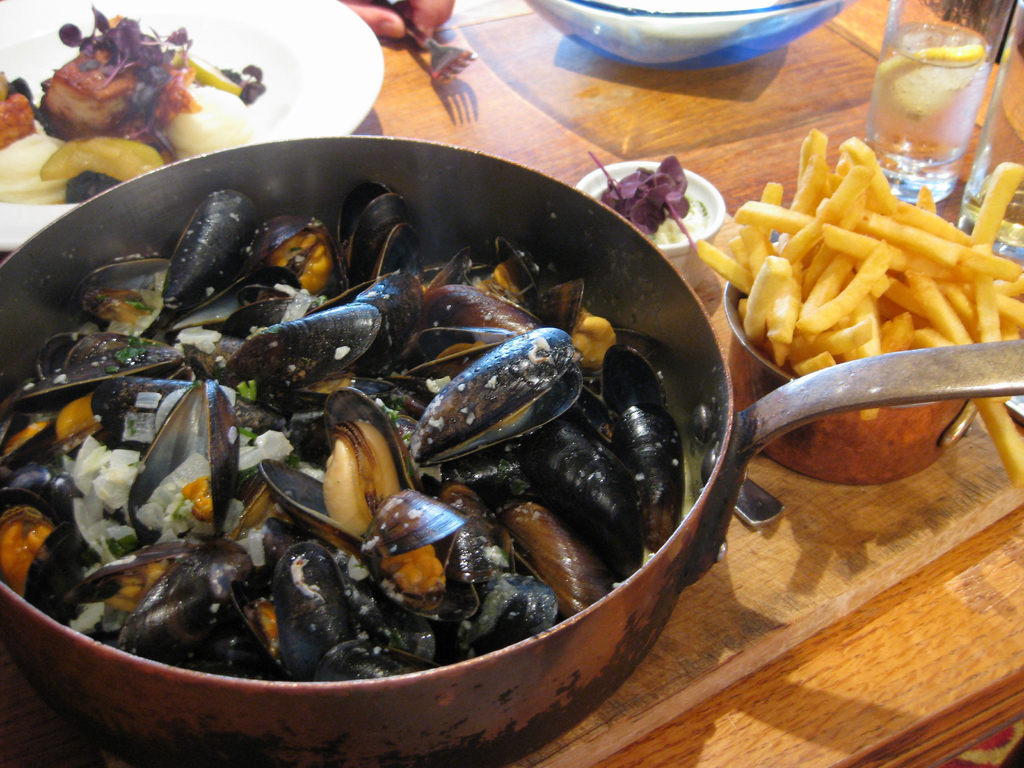French fries: (733, 142, 1005, 369)
